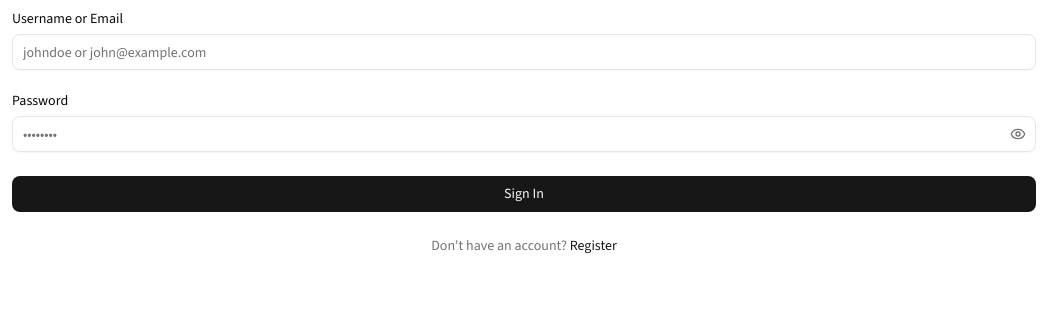
it: LoginForm › validation › shows error when username field is empty on submit
Click the button "Sign In".
click(524, 194)  # box [12,176,1036,212]
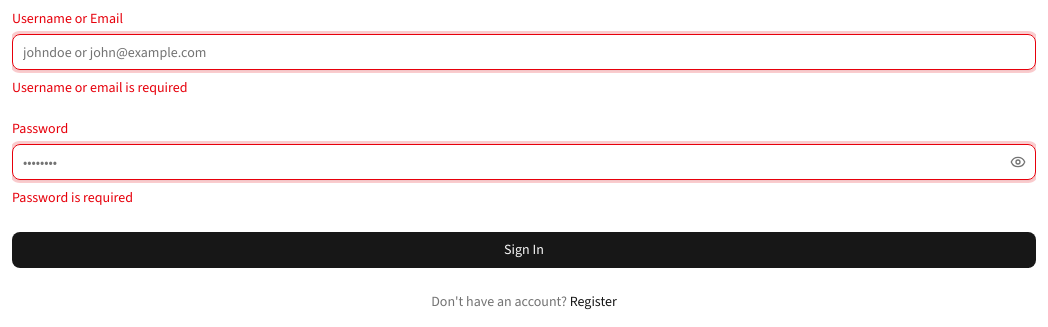
Check: the text "Username or email is required" is shown, box [12,78,187,97]
